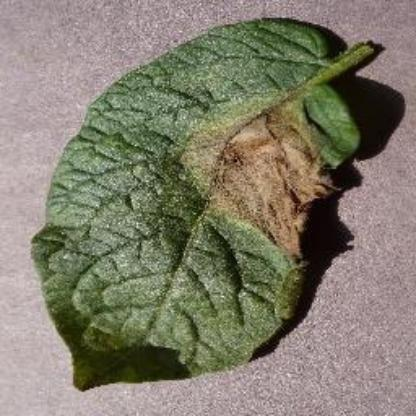Late-Blight: (23, 10, 382, 398)
